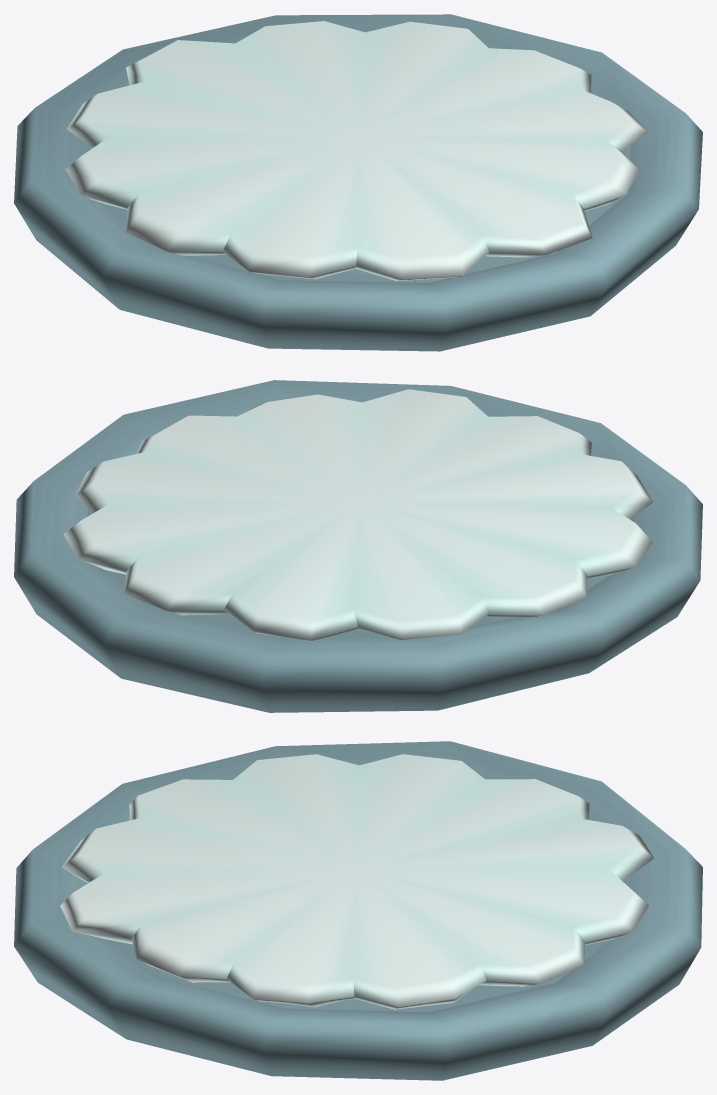
Rendered from Prop_PastryTeaTable_Saucer.glb.
3 renders of one model, top to bottom at view 1: azimuth 30°, elevation 25°; view 2: azimuth 150°, elevation 25°; view 3: azimuth 270°, elevation 25°, orthographic.
Parts seen in each view (by area): view 1: Prop_PastryTeaTable_Saucer; view 2: Prop_PastryTeaTable_Saucer; view 3: Prop_PastryTeaTable_Saucer.
Part boxes in pixels (x1=…): Prop_PastryTeaTable_Saucer: x1=14, y1=14, x2=702, y2=351; Prop_PastryTeaTable_Saucer: x1=14, y1=380, x2=702, y2=712; Prop_PastryTeaTable_Saucer: x1=14, y1=741, x2=702, y2=1080.
Bounding box in the file's own units: 1.68 × 0.2232 × 1.68.
1 material, 1 textured.
